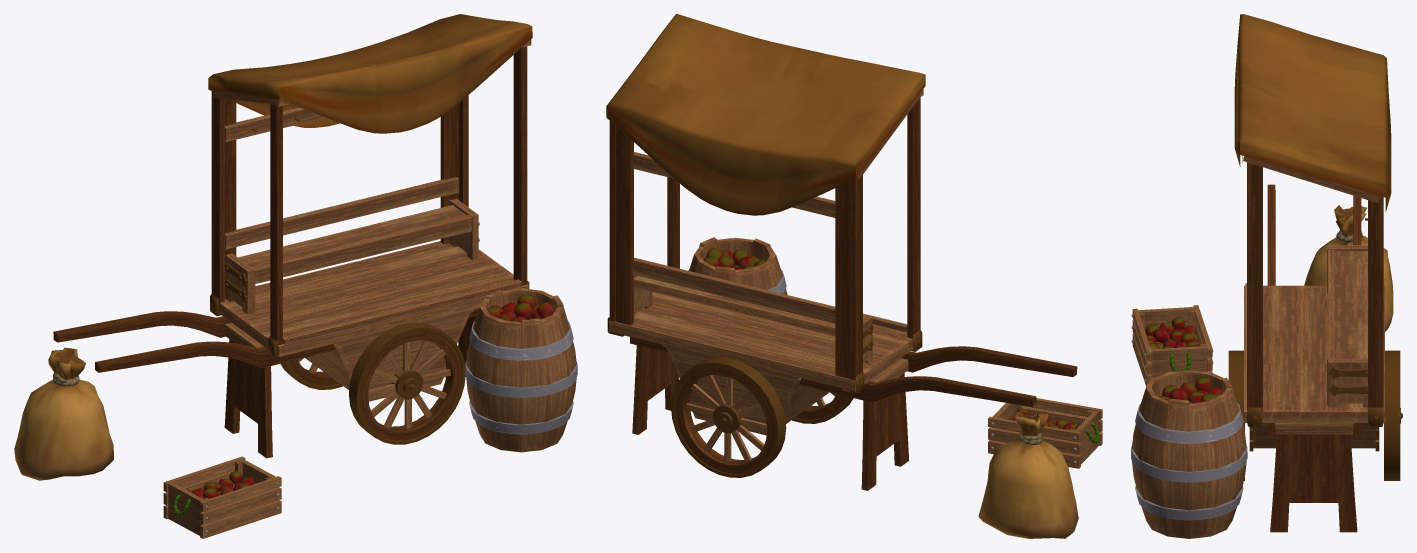
Rendered from Merchant.glb.
The picture shows the model from 3 angles, left to right: view 1: azimuth 30°, elevation 25°; view 2: azimuth 150°, elevation 25°; view 3: azimuth 270°, elevation 25°; orthographic projection. The views are drawn at different scales.
Parts seen in each view (by area): view 1: Bag; view 2: Bag; view 3: Bag.
Boxes of the visible parts, box(x1,y1,x2,y2) form: Bag: box(14, 14, 577, 538); Bag: box(606, 14, 1102, 538); Bag: box(1131, 14, 1402, 538).
Size of the model in its own units: 3.38 by 2.63 by 1.63.
11 materials, 11 textured.
